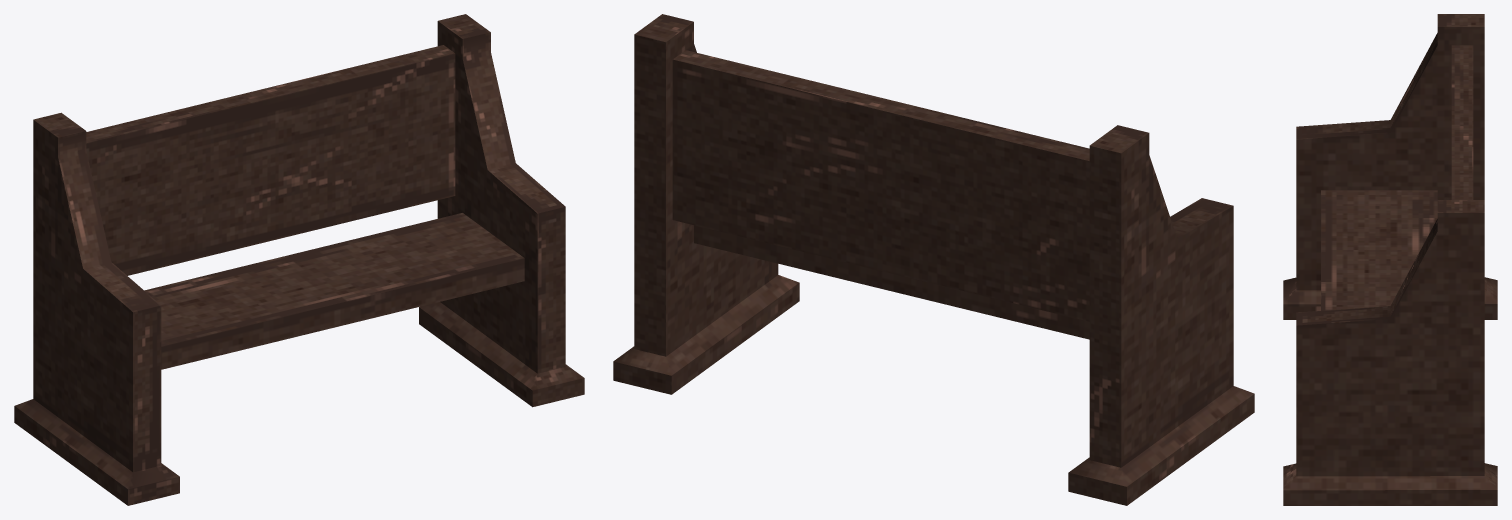
File: benchsmall.glb
3 renders of one model, left to right at view 1: azimuth 30°, elevation 25°; view 2: azimuth 150°, elevation 25°; view 3: azimuth 270°, elevation 25°, orthographic. The views are drawn at different scales.
Visible parts, largest first — view 1: bench_geo; view 2: bench_geo; view 3: bench_geo.
Boxes of the visible parts, x1,y1,x2,y2 form: bench_geo: [14, 14, 584, 505]; bench_geo: [613, 14, 1254, 505]; bench_geo: [1283, 14, 1497, 505].
Bounding box in the file's own units: 2.08 × 1.33 × 0.8974.
1 material, 1 textured.
